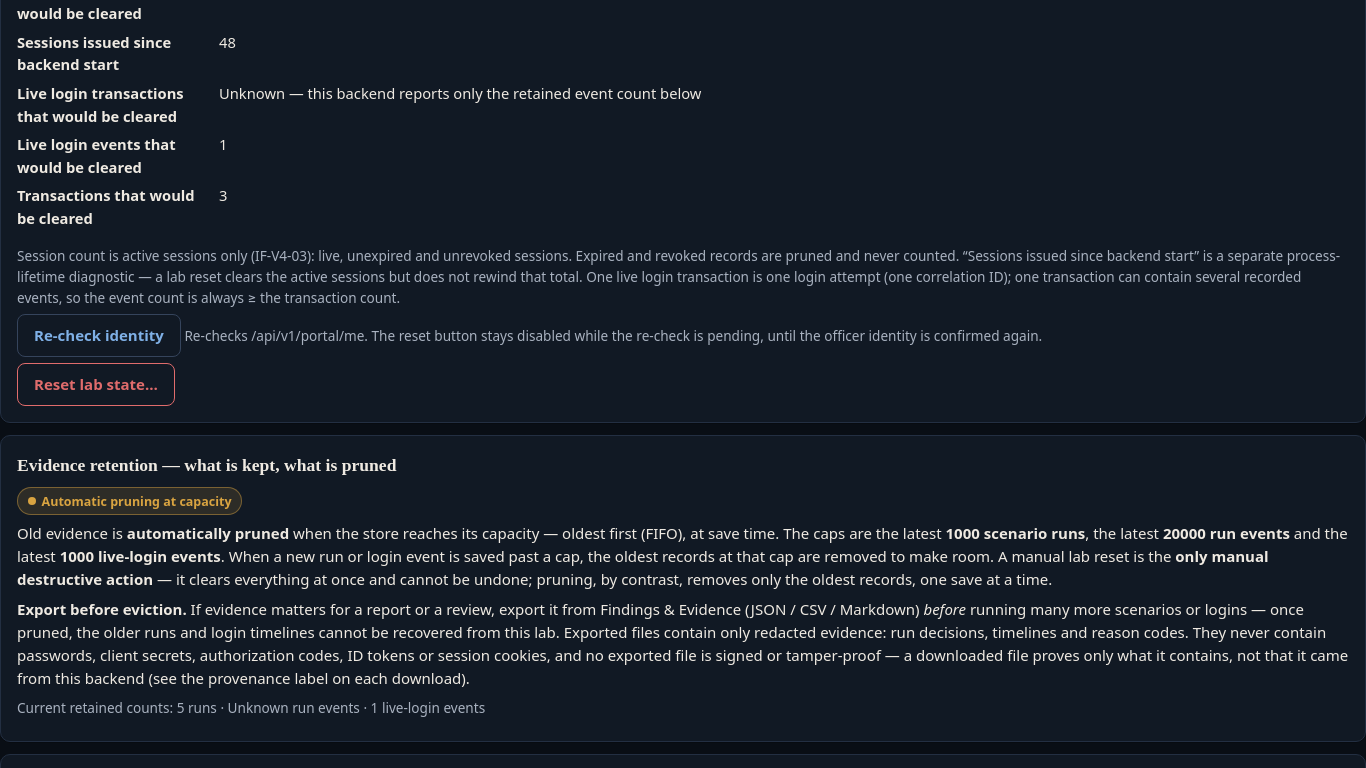
Test: Settings reset flow (P0-01, v3) › officer double-confirm succeeds: shows cleared counts, session revoked, counts refresh to zeros, onReset called
(page scrolled)
What coordinates should you click on to do the following:
click the button "Reset lab state…"
I would click on:
 (96, 385)
Its box is [17, 363, 175, 406].
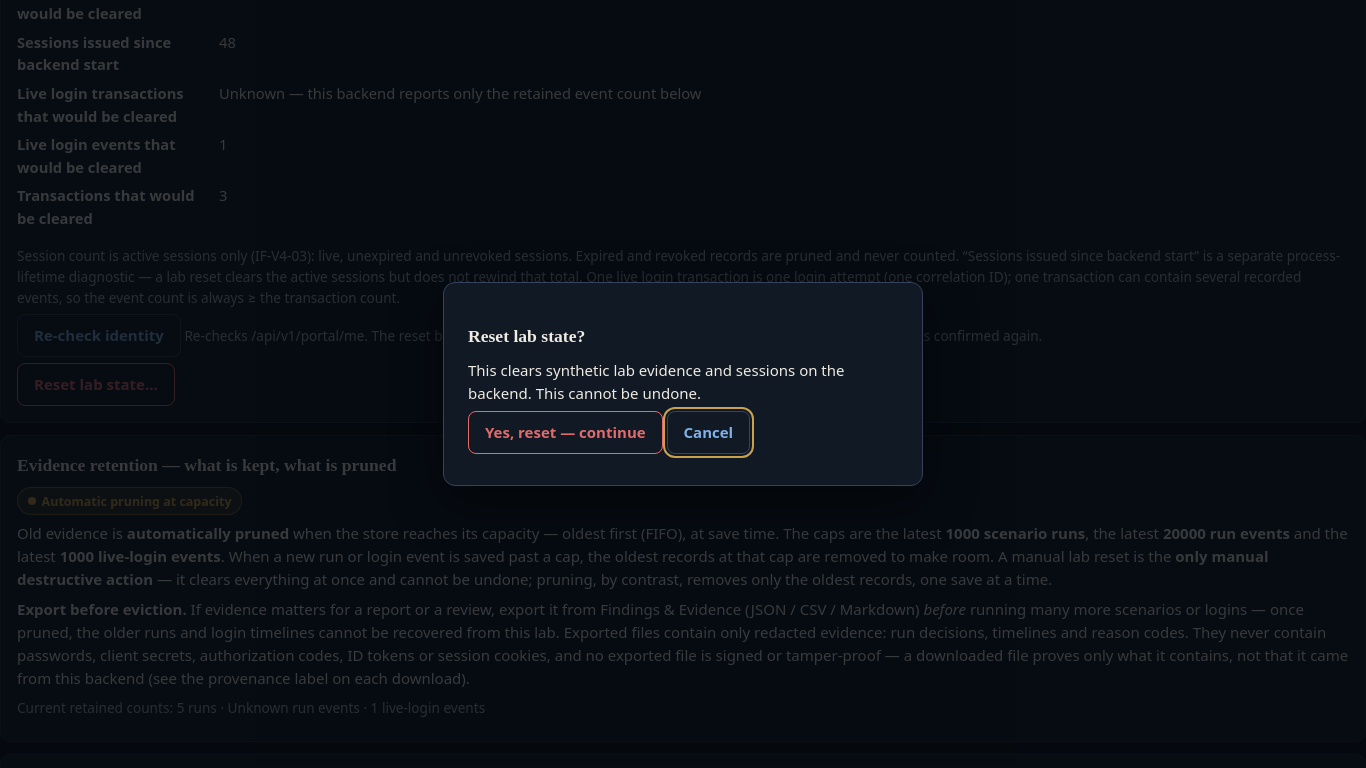
What coordinates should you click on to do the following:
click the button "Yes, reset — continue"
I would click on:
 (565, 433)
Its box is [468, 412, 663, 454].
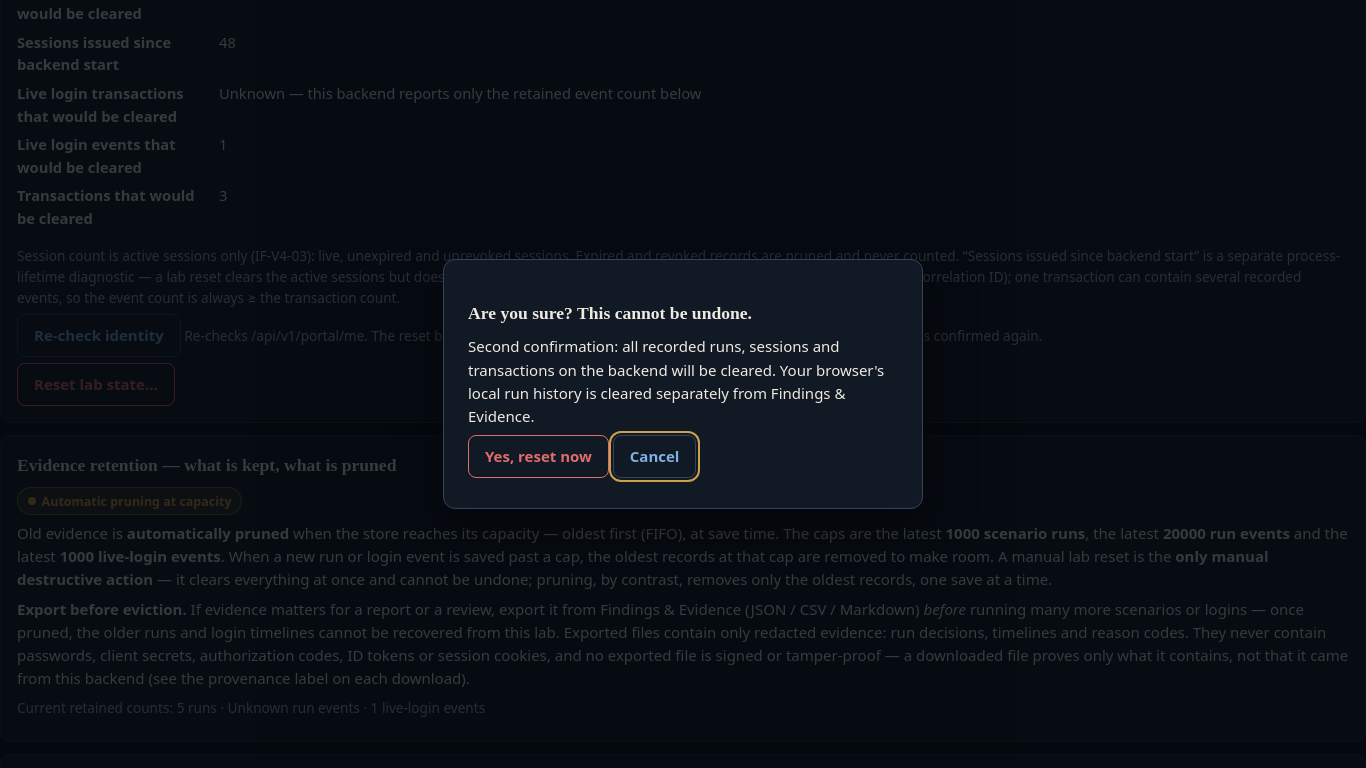
What coordinates should you click on to do the following:
click the button "Yes, reset now"
I would click on:
 (538, 456)
Its box is [468, 435, 609, 478].
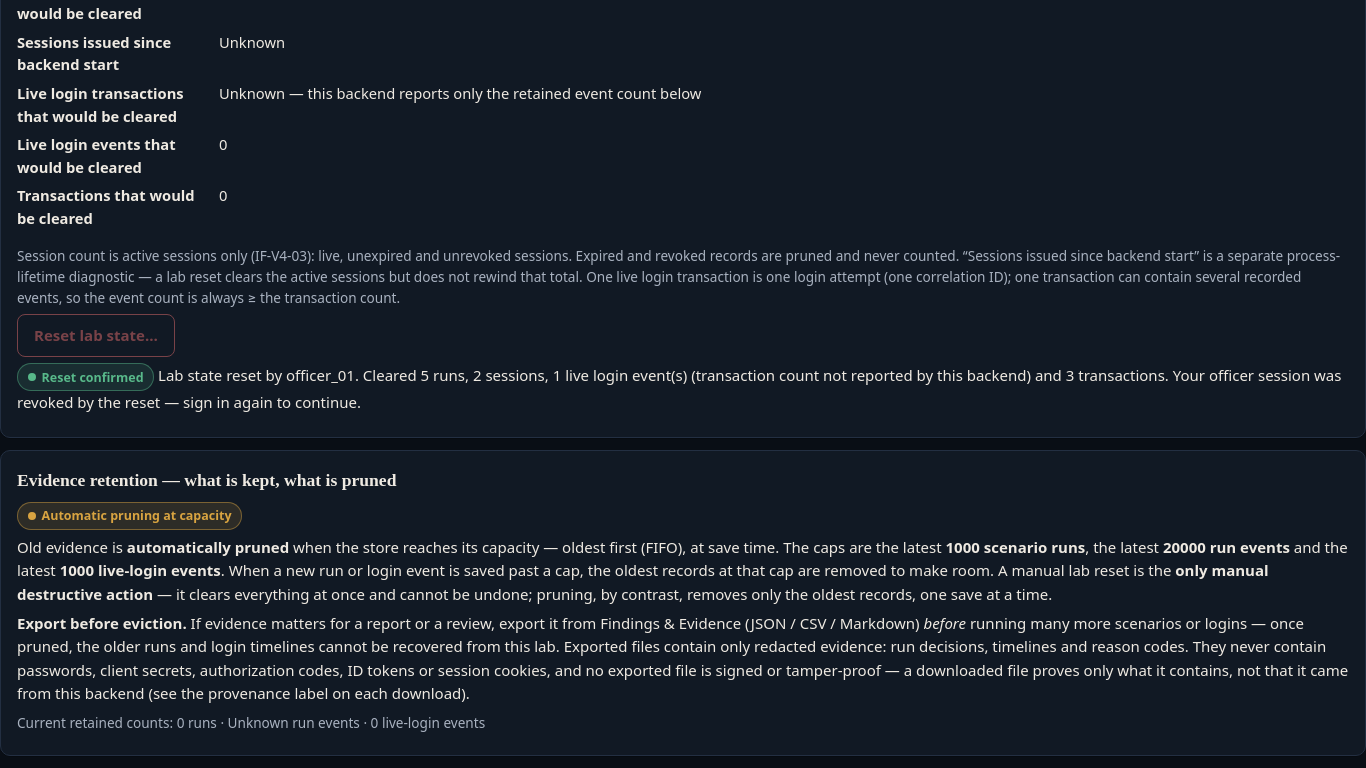
Check: the text "Reset confirmed" is shown, box [17, 363, 154, 391]
Check: the text "Your officer session was revoked by the reset — sign in again to continue" is shown, box [17, 365, 1342, 412]
Check: the button "Reset lab state…" is disabled, box [17, 314, 175, 357]
